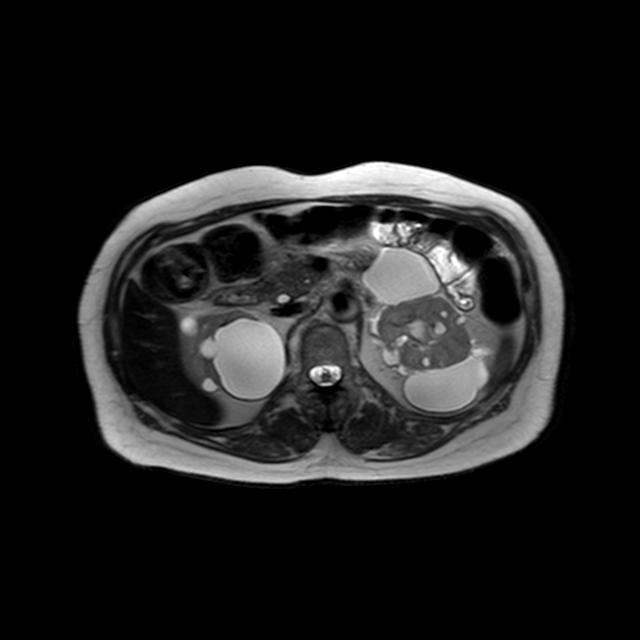sag: (177, 309, 288, 399)
sol: (364, 245, 490, 415)
